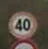limite 40: (6, 9, 38, 40)
